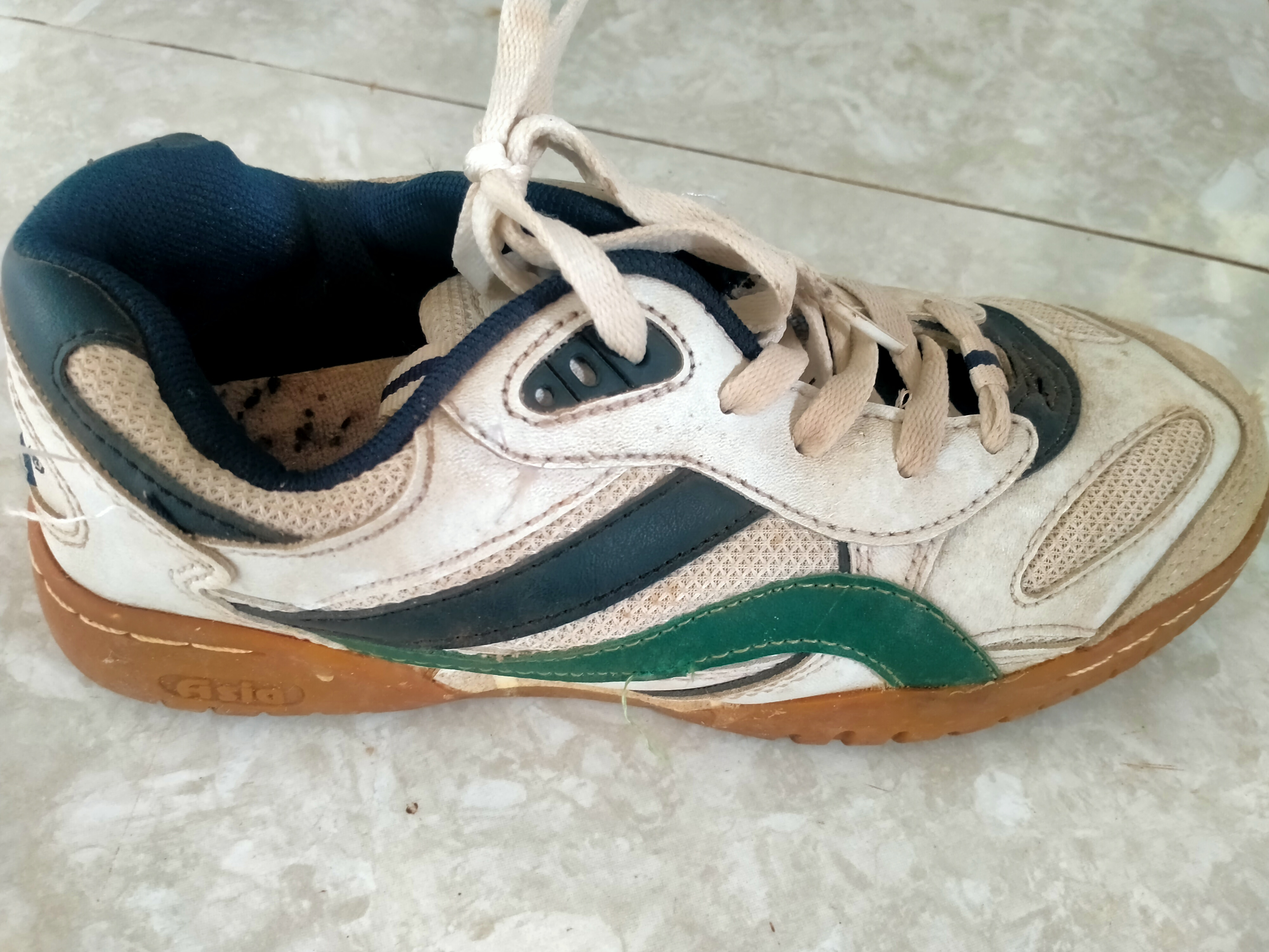broken: (630, 653, 711, 683)
